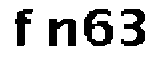3: (117, 5, 147, 51)
6: (84, 3, 114, 50)
f: (7, 6, 36, 52)
n: (45, 16, 80, 51)
